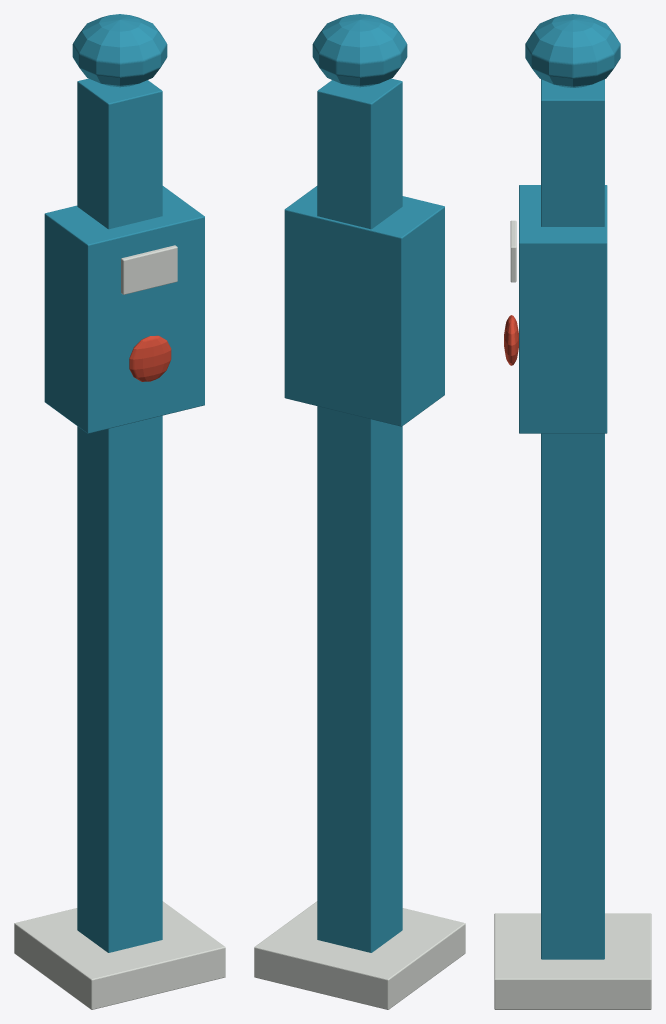
The model's file is SAF_EMERGENCY_BELL_01.fbx.
3 views of the same model, side by side, from view 1: azimuth 30°, elevation 25°; view 2: azimuth 150°, elevation 25°; view 3: azimuth 270°, elevation 25° (orthographic).
Parts seen in each view (by area): view 1: SAF_EMERGENCY_BELL_01; view 2: SAF_EMERGENCY_BELL_01; view 3: SAF_EMERGENCY_BELL_01.
Part boxes in pixels (<box>): SAF_EMERGENCY_BELL_01: <box>14,14,225,1009</box>; SAF_EMERGENCY_BELL_01: <box>254,14,465,1009</box>; SAF_EMERGENCY_BELL_01: <box>494,14,651,1009</box>.
Size of the model in its own units: 32 by 215 by 32.
